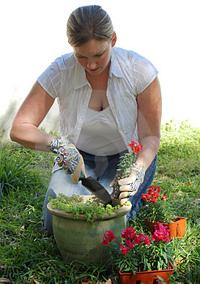person: (11, 5, 164, 238)
